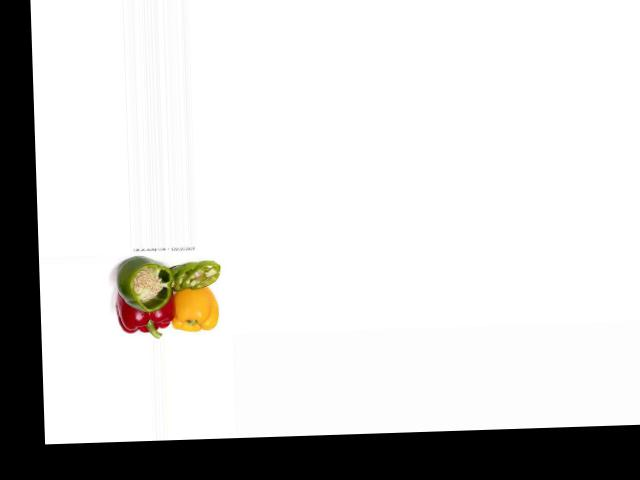bell_pepper: (110, 259, 174, 314)
